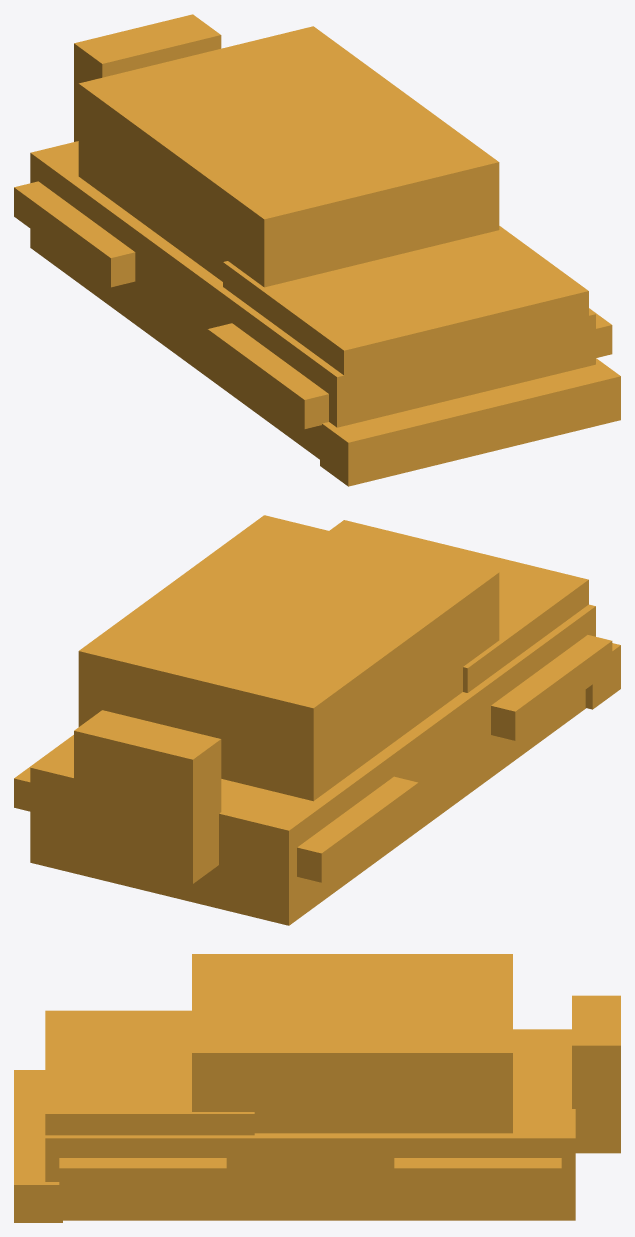
File: jeep_rubicon.glb
3 views of the same model, one above another, from view 1: azimuth 30°, elevation 25°; view 2: azimuth 150°, elevation 25°; view 3: azimuth 270°, elevation 25° (orthographic). The views are drawn at different scales.
Parts seen in each view (by area): view 1: RubiconBody; view 2: RubiconBody; view 3: RubiconBody.
Part boxes in pixels (bbox=[...]): RubiconBody: bbox=[14, 14, 620, 486]; RubiconBody: bbox=[14, 515, 620, 925]; RubiconBody: bbox=[14, 954, 620, 1222].
Size of the model in its own units: 2.2 by 1.28 by 4.35.
